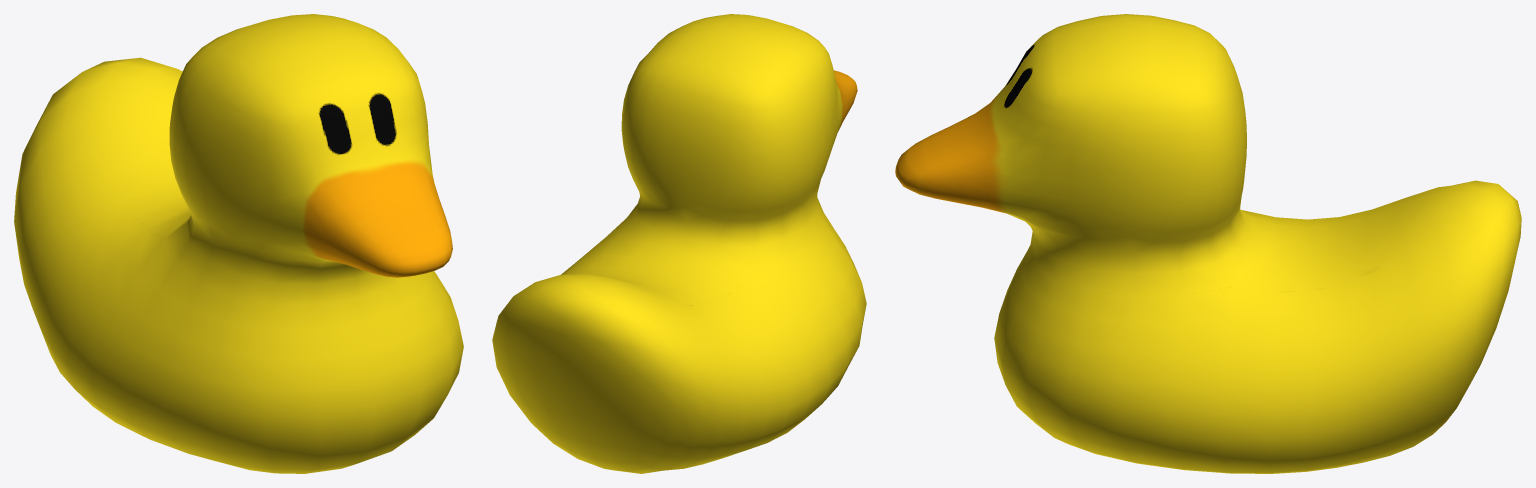
Rendered from RubberDucky.fbx.
3 renders of one model, left to right at view 1: azimuth 30°, elevation 25°; view 2: azimuth 150°, elevation 25°; view 3: azimuth 270°, elevation 25°, orthographic. The views are drawn at different scales.
Parts seen in each view (by area): view 1: RubberDucky; view 2: RubberDucky; view 3: RubberDucky.
Part boxes in pixels (x1,y1,x2,y2): RubberDucky: (14, 14, 463, 473); RubberDucky: (492, 14, 866, 473); RubberDucky: (895, 14, 1521, 473).
Bounding box in the file's own units: 144 × 179 × 249.
